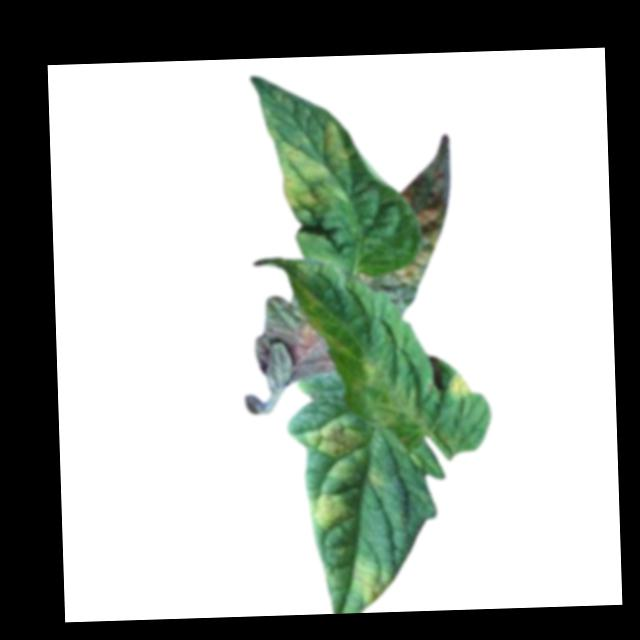Leaf_Mold: (269, 118, 355, 216), (253, 308, 336, 385), (401, 134, 455, 248), (357, 250, 435, 303), (305, 415, 365, 457), (353, 557, 395, 609), (304, 490, 354, 529), (445, 368, 475, 396)
